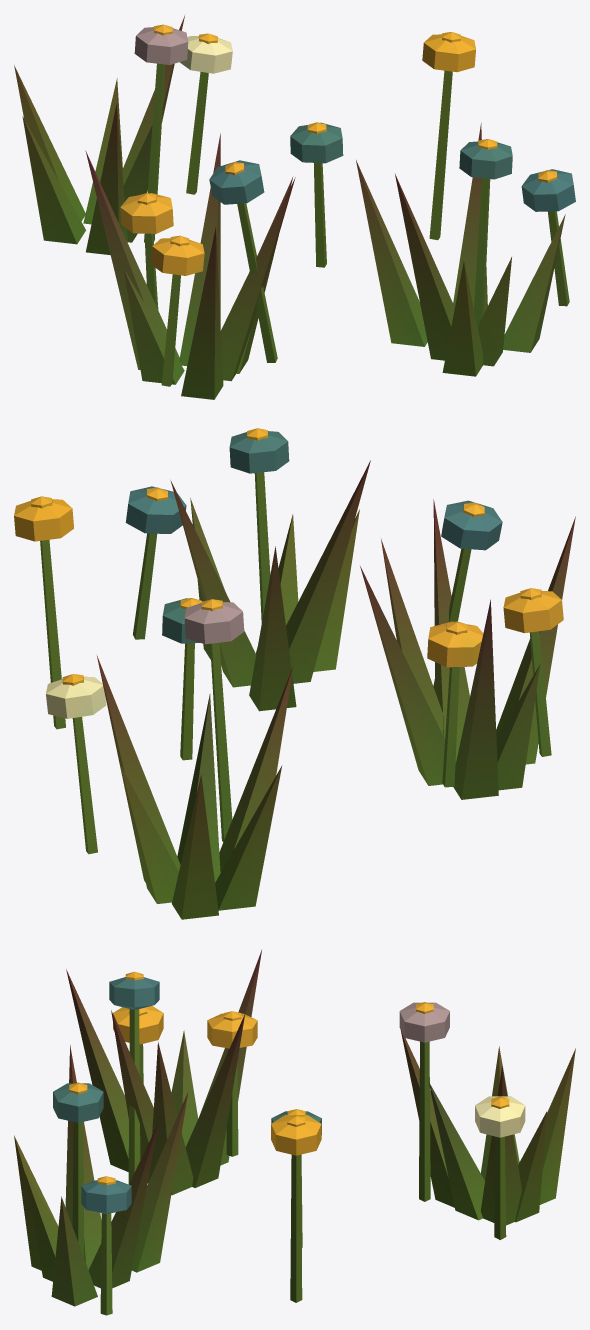
The model's file is Flower_Wild_01.glb.
3 views of the same model, one above another, from view 1: azimuth 30°, elevation 25°; view 2: azimuth 150°, elevation 25°; view 3: azimuth 270°, elevation 25° (orthographic). The views are drawn at different scales.
Visible parts, largest first — view 1: Flower_Wild_01; view 2: Flower_Wild_01; view 3: Flower_Wild_01.
Boxes of the visible parts, left/top/right/bottom form: Flower_Wild_01: left=14, top=15, right=575, bottom=399; Flower_Wild_01: left=14, top=428, right=575, bottom=919; Flower_Wild_01: left=14, top=950, right=575, bottom=1315.
Bounding box in the file's own units: 0.6776 × 0.3565 × 0.8469.
